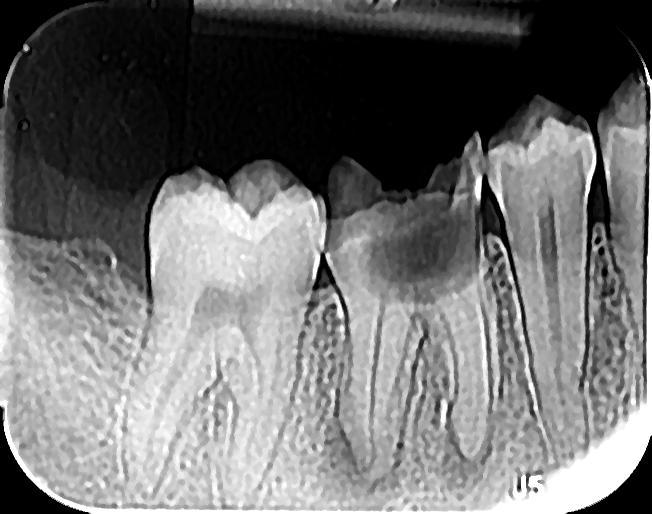individual-tooth-8tto: (116, 143, 330, 510), (321, 135, 495, 470), (481, 92, 599, 490)
